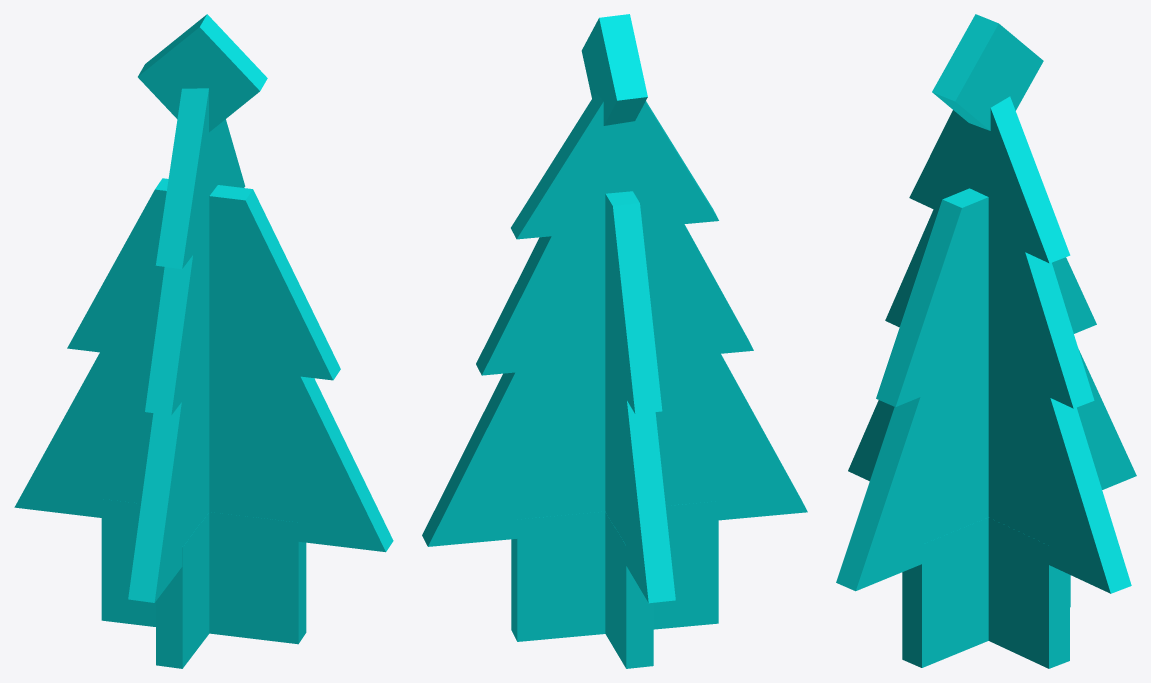
The model's file is SM_Prop_Tree_Xmas_01_Collision.fbx.
3 views of the same model, side by side, from view 1: azimuth 30°, elevation 25°; view 2: azimuth 150°, elevation 25°; view 3: azimuth 270°, elevation 25° (orthographic).
Parts seen in each view (by area): view 1: SM_Prop_Tree_Xmas_01_Collision; view 2: SM_Prop_Tree_Xmas_01_Collision; view 3: SM_Prop_Tree_Xmas_01_Collision.
Boxes of the visible parts, left/top/right/bottom form: SM_Prop_Tree_Xmas_01_Collision: left=14, top=14, right=393, bottom=668; SM_Prop_Tree_Xmas_01_Collision: left=422, top=14, right=807, bottom=668; SM_Prop_Tree_Xmas_01_Collision: left=836, top=14, right=1136, bottom=668.
Bounding box in the file's own units: 139 × 305 × 136.
